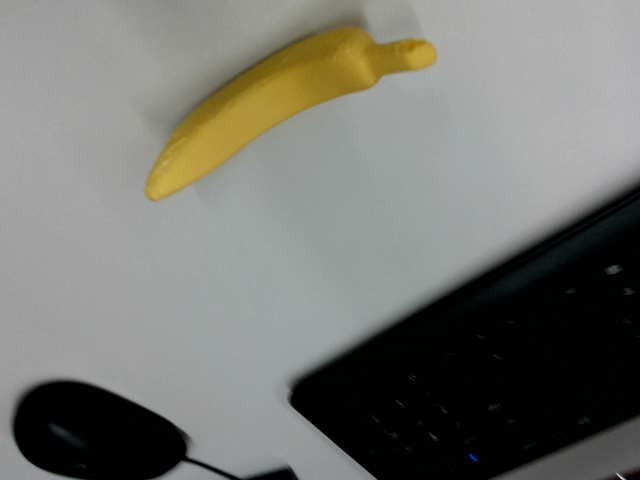banana: (115, 0, 440, 204)
